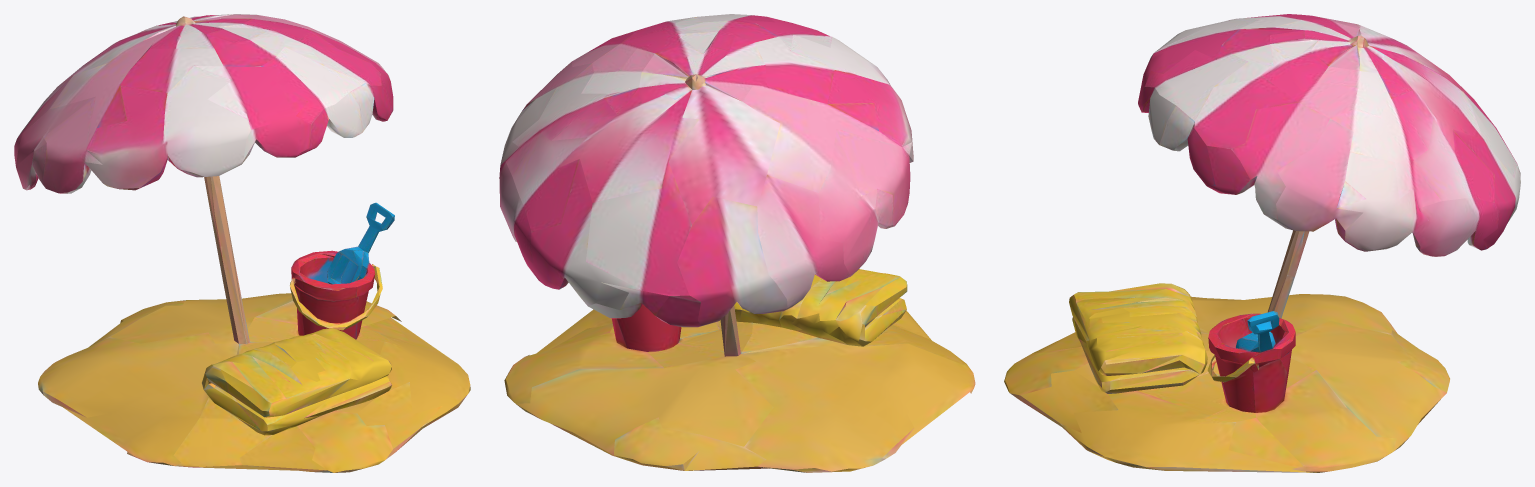
The model's file is umbrella.glb.
3 renders of one model, left to right at view 1: azimuth 30°, elevation 25°; view 2: azimuth 150°, elevation 25°; view 3: azimuth 270°, elevation 25°, orthographic. The views are drawn at different scales.
Bounding box in the file's own units: 1.54 × 1.41 × 1.9.
Materials: 1 (1 with a texture image).
